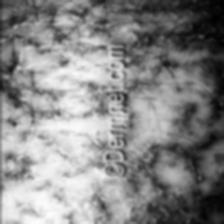Non-Cancerous Skin Condition: (129, 0, 224, 224), (0, 0, 93, 224)
